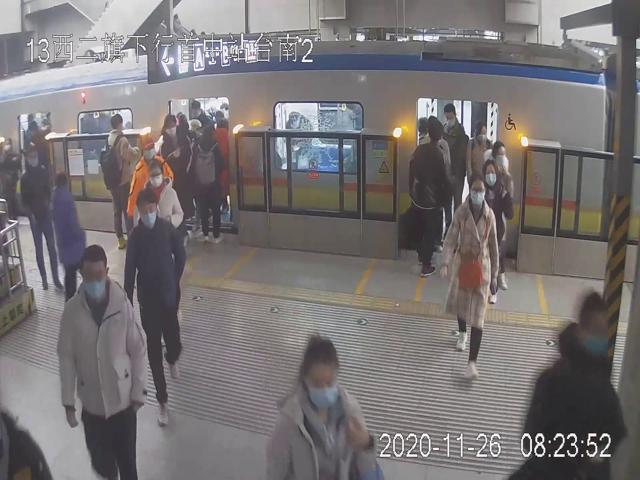person: (56, 244, 146, 480), (124, 191, 185, 428), (445, 173, 495, 385), (133, 159, 185, 345), (411, 118, 445, 275), (102, 112, 137, 248)
